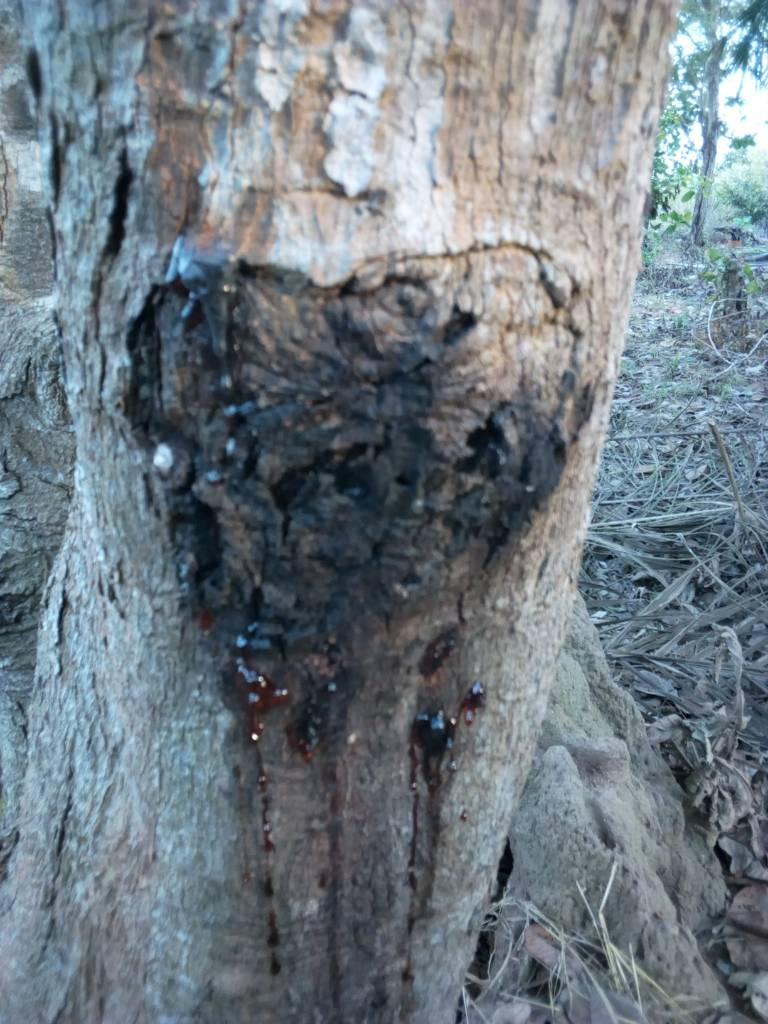ploceadorus ferrugineus: (77, 166, 657, 896)
